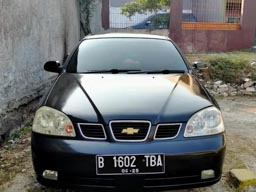plat: (96, 154, 164, 166)
